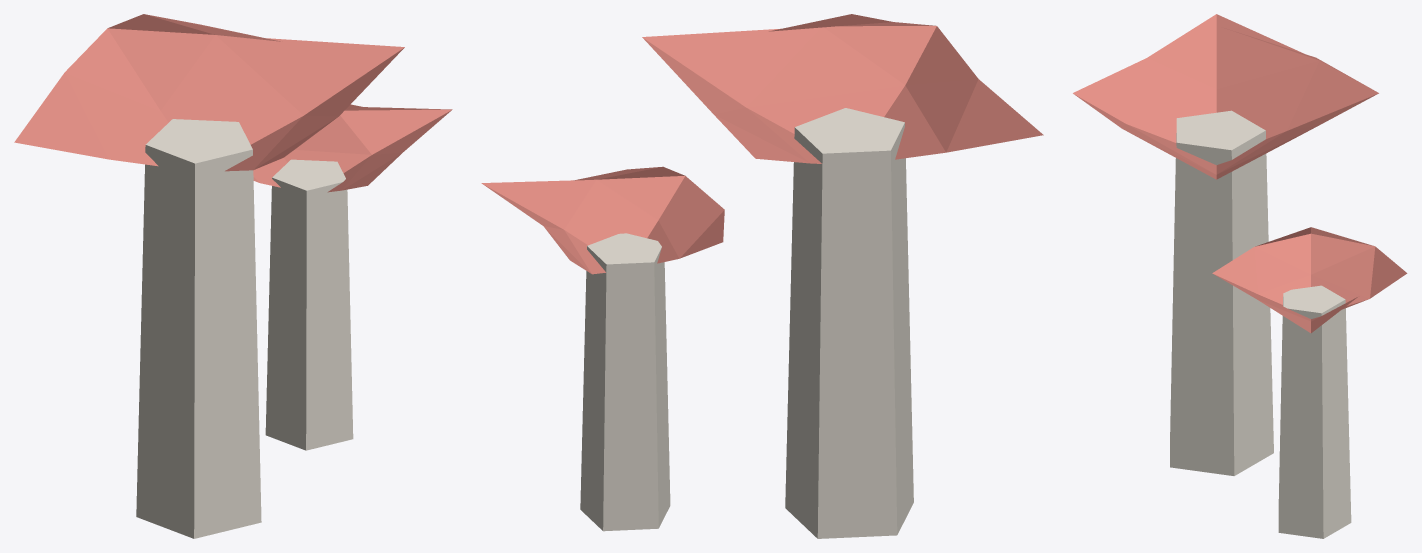
File: mushroom_v40.glb
3 views of the same model, side by side, from view 1: azimuth 30°, elevation 25°; view 2: azimuth 150°, elevation 25°; view 3: azimuth 270°, elevation 25° (orthographic). The views are drawn at different scales.
Visible parts, largest first — view 1: lod0; view 2: lod0; view 3: lod0.
Boxes of the visible parts, box(x1,y1,x2,y2) form: lod0: box(14, 14, 452, 538); lod0: box(481, 14, 1043, 538); lod0: box(1073, 14, 1407, 538).
Size of what is drawn, in the model's own units: 0.3613 by 0.3406 by 0.2447.
